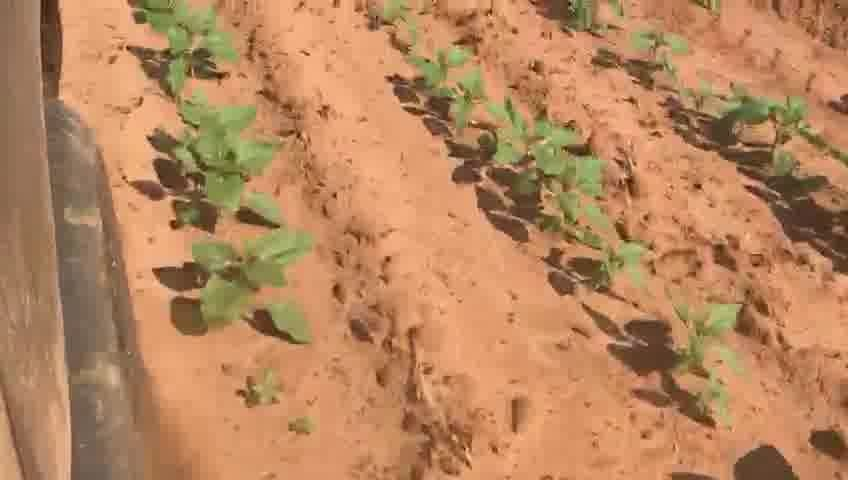sunflower: (194, 229, 313, 348), (174, 106, 282, 230), (651, 298, 742, 425), (133, 4, 242, 92), (482, 97, 579, 184), (513, 145, 609, 230), (411, 44, 487, 138), (685, 77, 775, 152), (561, 224, 655, 295), (750, 90, 812, 193), (624, 27, 693, 96)
